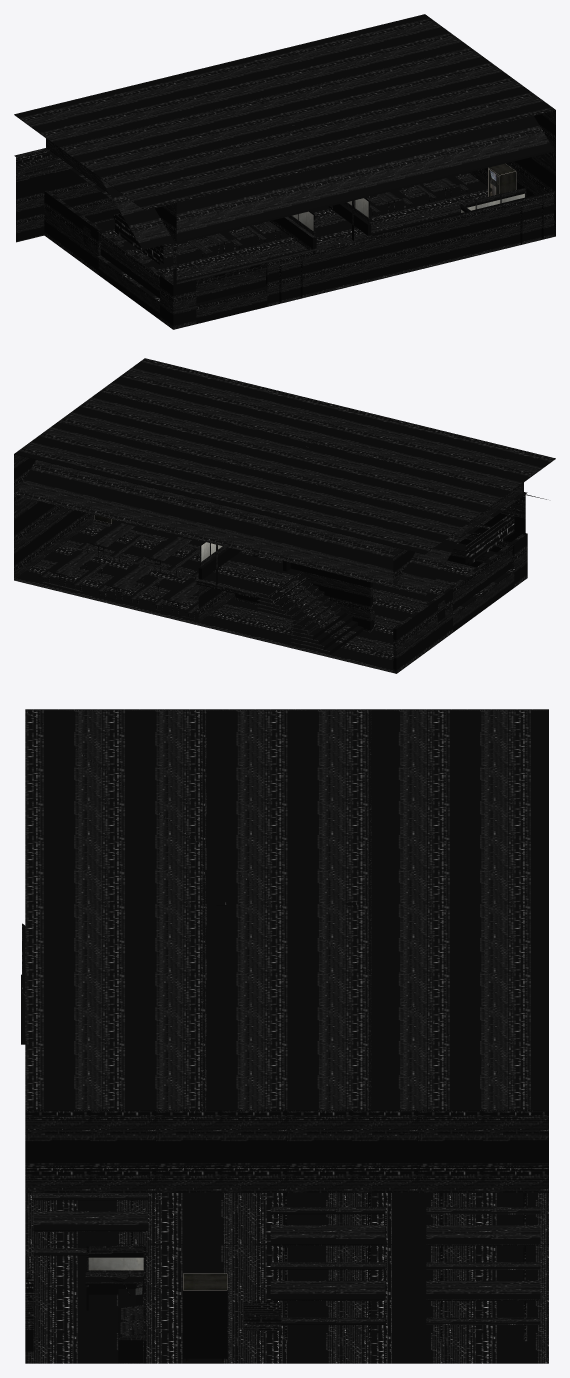
The model's file is room2cafeteria_opt.obj.
3 renders of one model, top to bottom at view 1: azimuth 30°, elevation 25°; view 2: azimuth 150°, elevation 25°; view 3: azimuth 270°, elevation 25°, orthographic. The views are drawn at different scales.
Bounding box in the file's own units: 3744 × 1092 × 2064.
